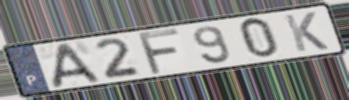0: (237, 16, 283, 62)
2: (96, 36, 144, 82)
9: (191, 25, 233, 65)
A: (51, 40, 103, 90)
F: (135, 27, 182, 77)
K: (281, 10, 332, 53)
